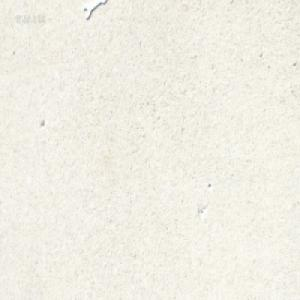Wrench: (83, 0, 107, 20)
